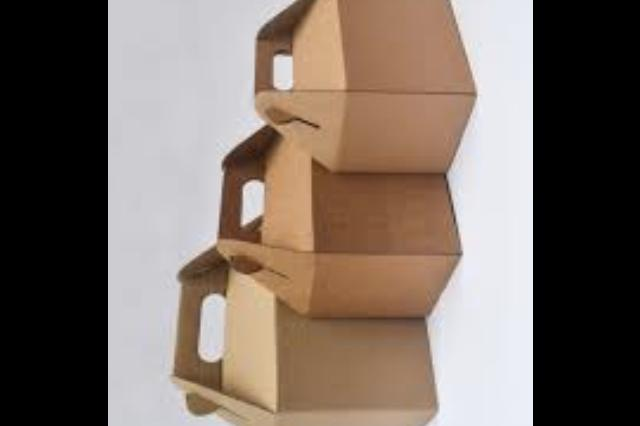cardboard paper: (171, 249, 434, 426), (217, 124, 459, 313), (256, 0, 474, 171)
